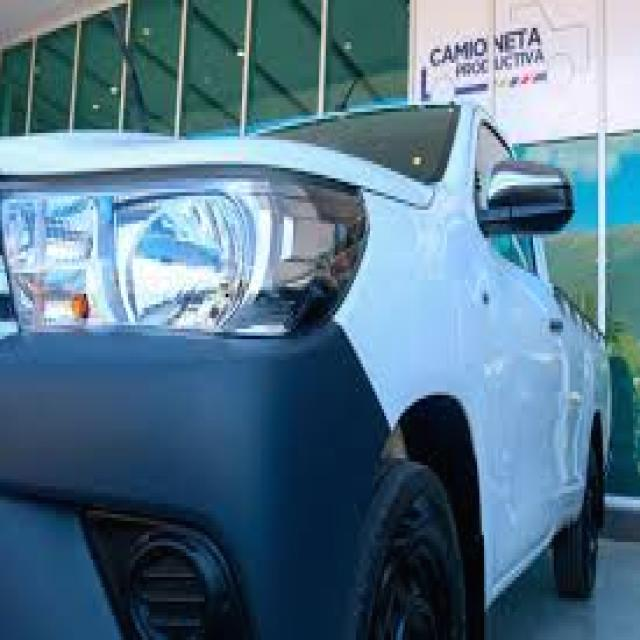CMT: (0, 97, 610, 637)
